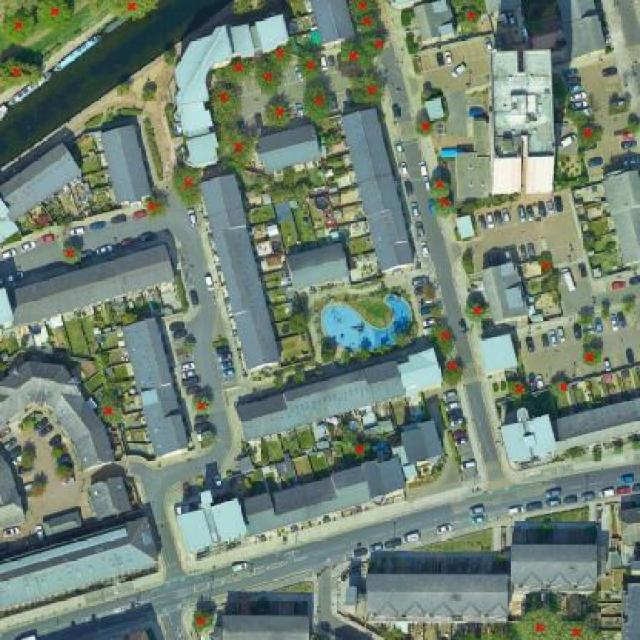tree: (0, 54, 63, 97), (169, 154, 213, 215), (200, 76, 248, 130), (212, 124, 260, 176), (343, 70, 395, 112), (333, 30, 378, 78), (510, 600, 564, 640), (94, 0, 171, 28), (294, 78, 340, 124), (0, 5, 48, 48), (30, 0, 81, 37), (255, 59, 293, 99), (89, 395, 131, 431), (257, 94, 300, 129), (549, 617, 614, 640), (435, 352, 474, 390), (49, 239, 94, 270), (567, 116, 608, 150), (292, 45, 328, 83), (139, 186, 175, 222), (428, 322, 463, 356), (183, 604, 222, 634), (460, 292, 494, 326), (347, 13, 391, 39), (452, 0, 487, 32), (428, 194, 461, 226), (9, 450, 46, 478), (342, 0, 393, 20), (421, 172, 457, 200), (453, 0, 485, 31), (502, 372, 532, 405), (358, 28, 390, 58), (265, 41, 298, 70), (212, 58, 254, 80), (572, 300, 600, 332), (345, 437, 377, 465), (532, 247, 560, 278), (576, 343, 607, 371), (20, 475, 52, 502), (53, 458, 81, 488), (546, 371, 574, 400), (188, 390, 217, 418), (315, 336, 340, 367), (226, 0, 260, 22), (138, 84, 164, 110), (618, 113, 640, 141), (111, 78, 138, 99), (618, 298, 640, 320), (179, 335, 201, 357), (160, 46, 178, 69)
